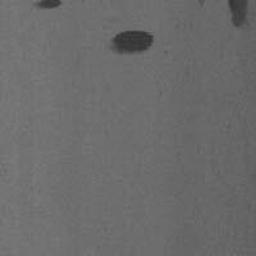Oil spot: (104, 28, 155, 56), (225, 0, 251, 33), (32, 0, 64, 10), (196, 0, 205, 12)
